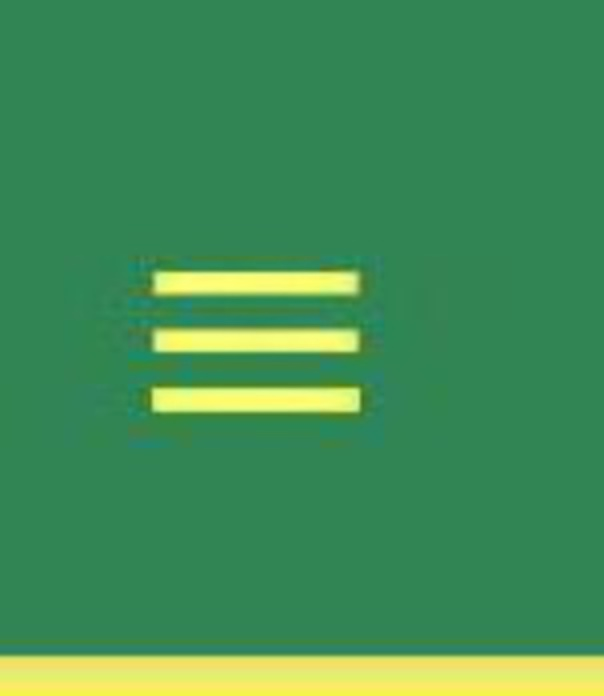ImgButton: (1, 1, 603, 695)
